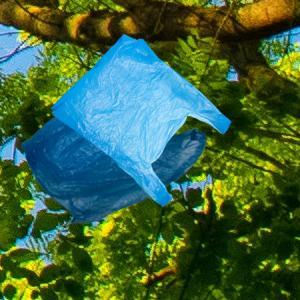plastic_bag: (48, 29, 235, 209)
